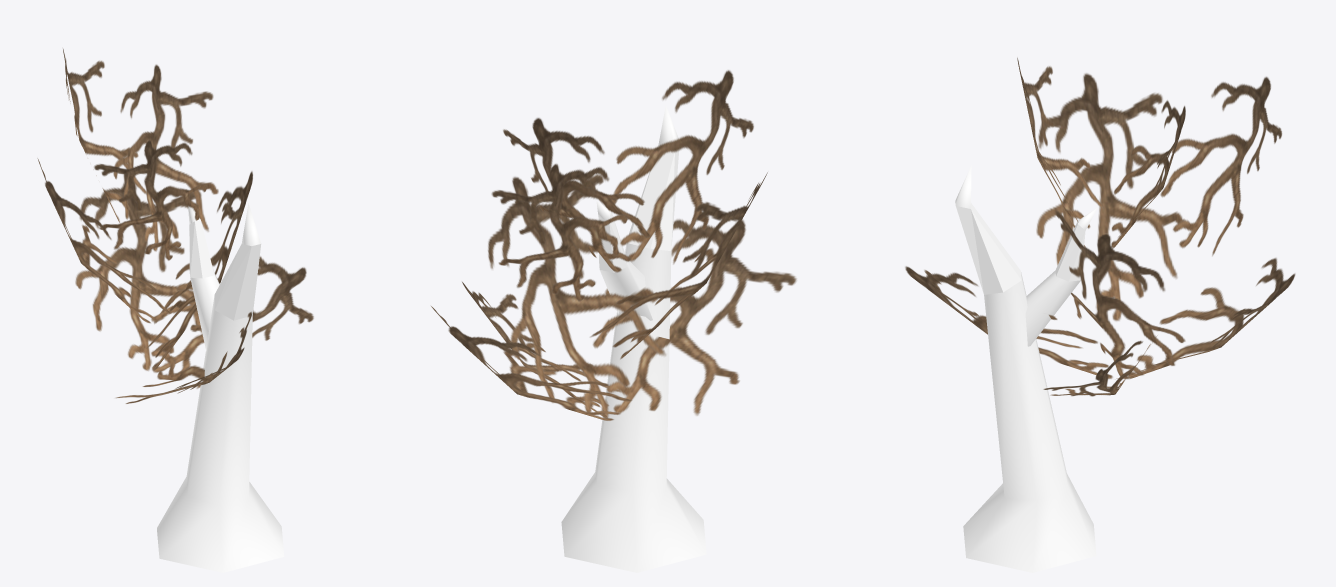
3 renders of one model, left to right at view 1: azimuth 30°, elevation 25°; view 2: azimuth 150°, elevation 25°; view 3: azimuth 270°, elevation 25°, orthographic. The views are drawn at different scales.
Parts seen in each view (by area): view 1: branches_brown, trunk_brown; view 2: branches_brown, trunk_brown; view 3: branches_brown, trunk_brown.
Boxes of the visible parts, bbox=[...] form: branches_brown: bbox=[37, 49, 313, 403]; trunk_brown: bbox=[157, 203, 284, 572]; branches_brown: bbox=[431, 70, 796, 420]; trunk_brown: bbox=[561, 105, 706, 572]; branches_brown: bbox=[905, 57, 1295, 396]; trunk_brown: bbox=[955, 165, 1098, 572].
Size of the model in its own units: 213 by 341 by 281.
2 materials, 1 textured.
